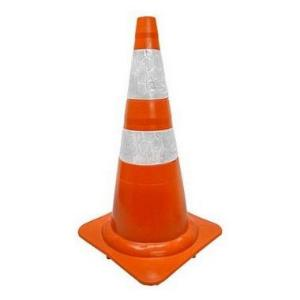traffic_cone: (77, 15, 223, 286)
